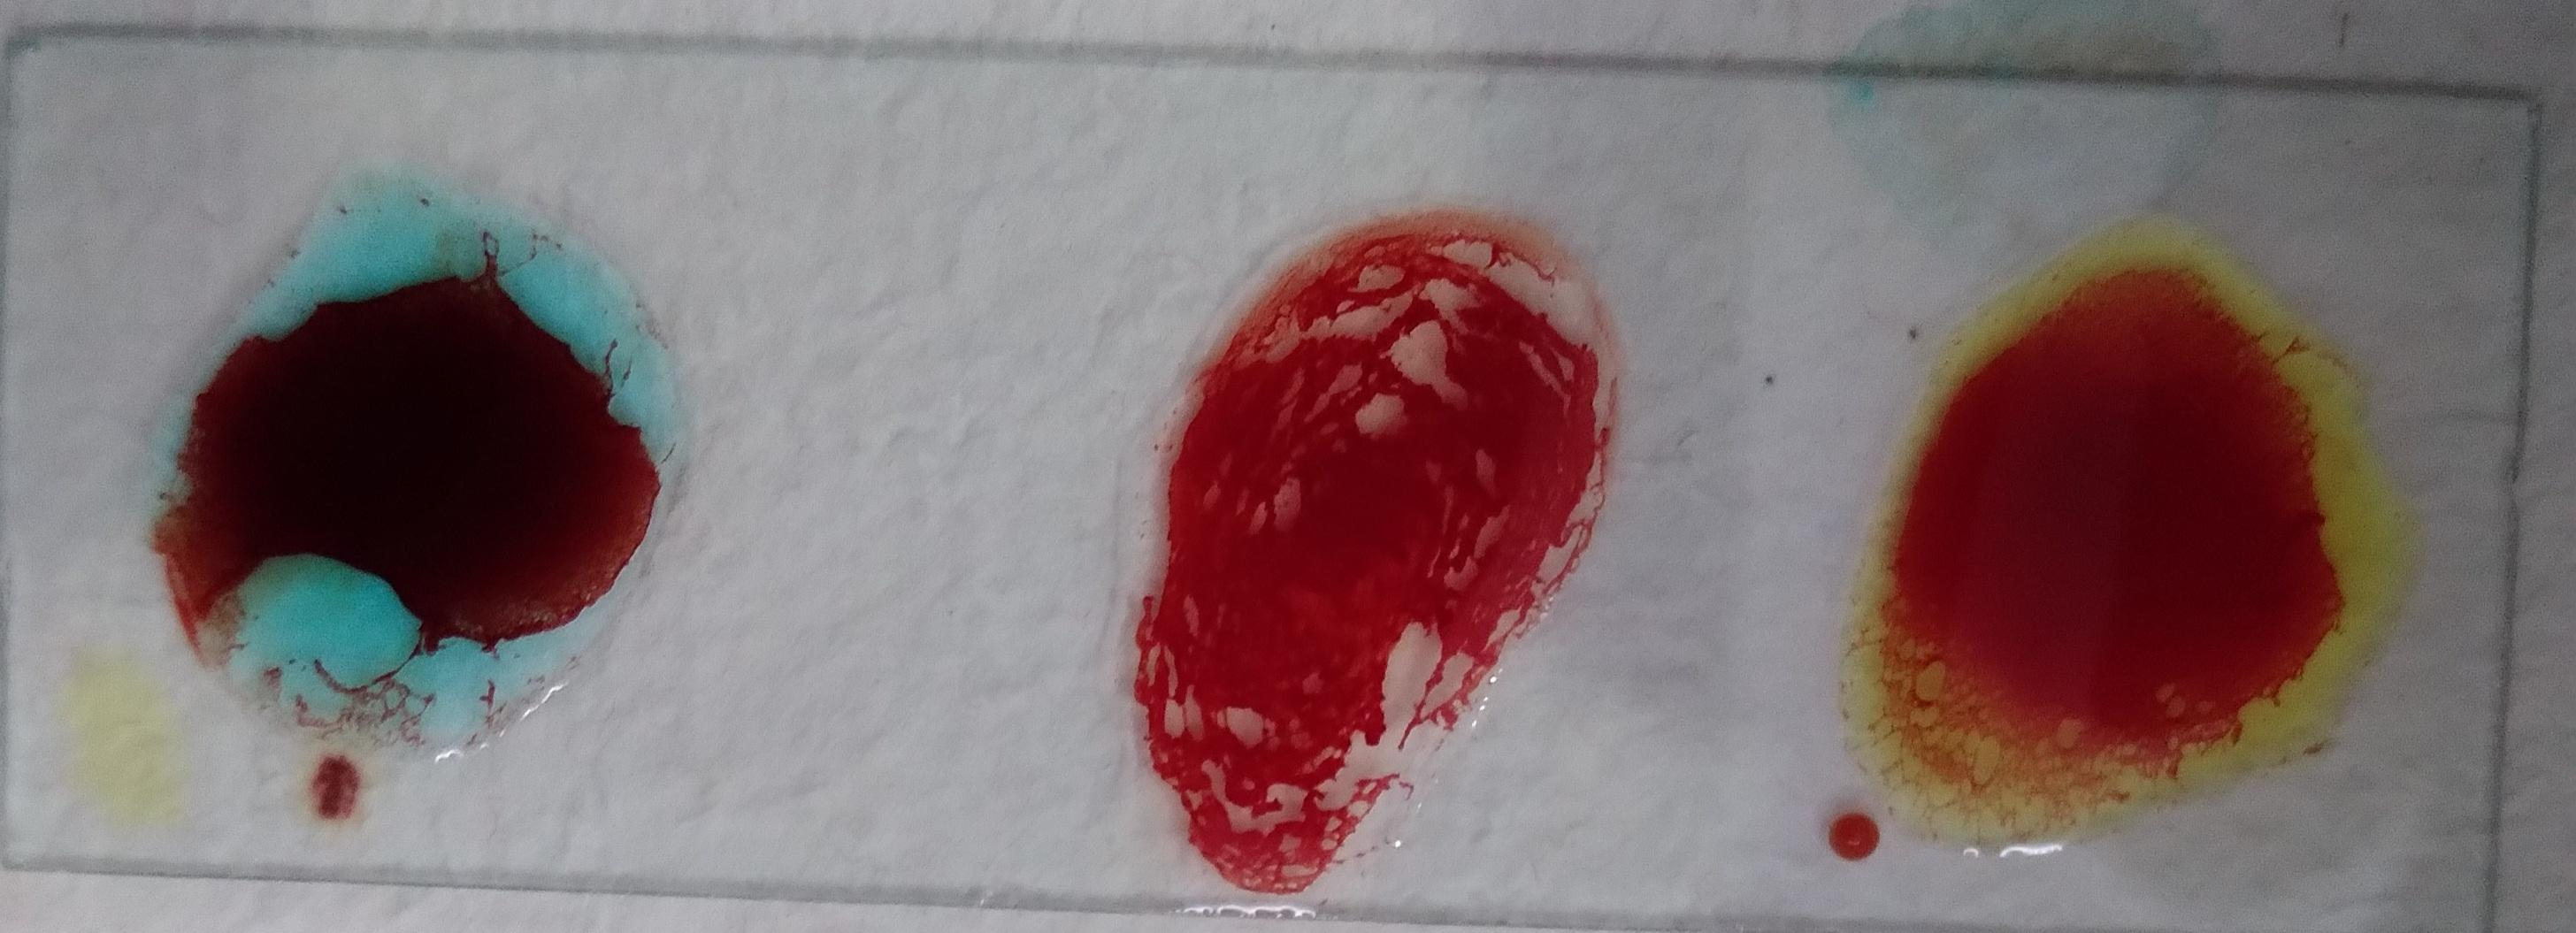A: (1894, 159, 2446, 749)
B: (204, 95, 678, 701)
D: (1012, 33, 1429, 726)
